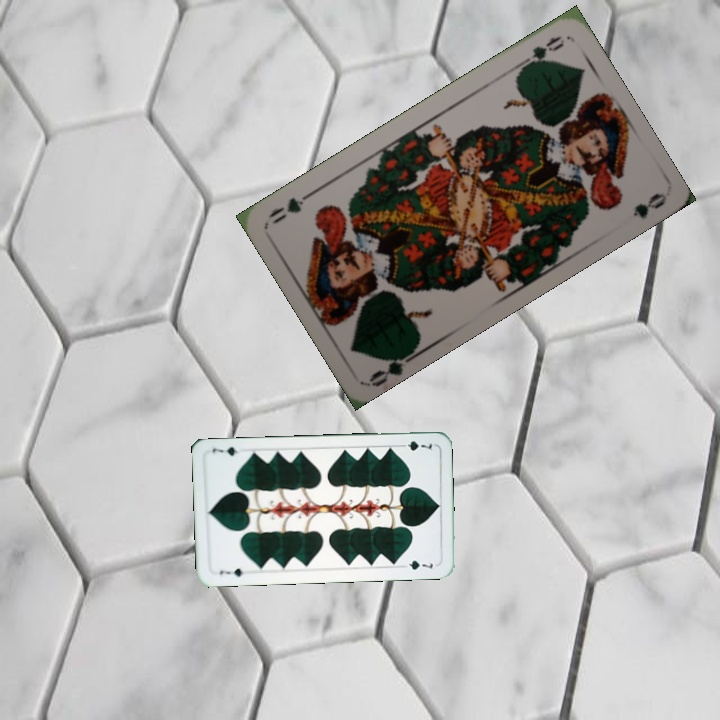G7: (395, 437, 435, 453), (216, 564, 245, 579)
GO: (366, 345, 420, 388), (513, 31, 567, 74)
